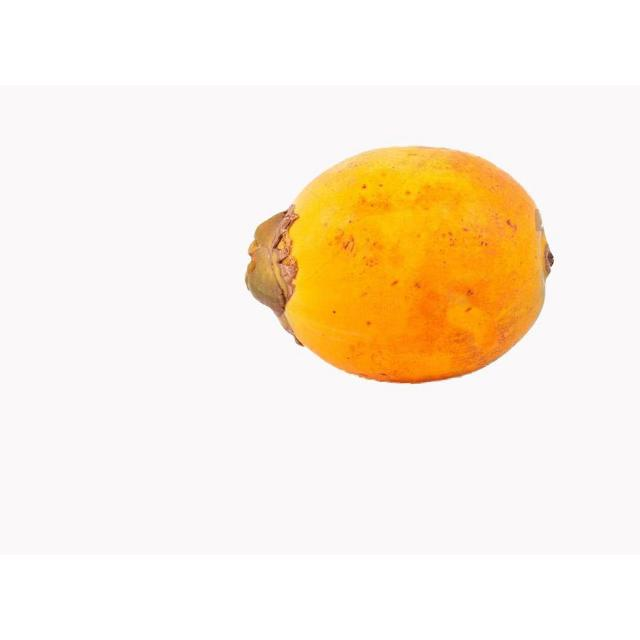good: (245, 146, 554, 386)
